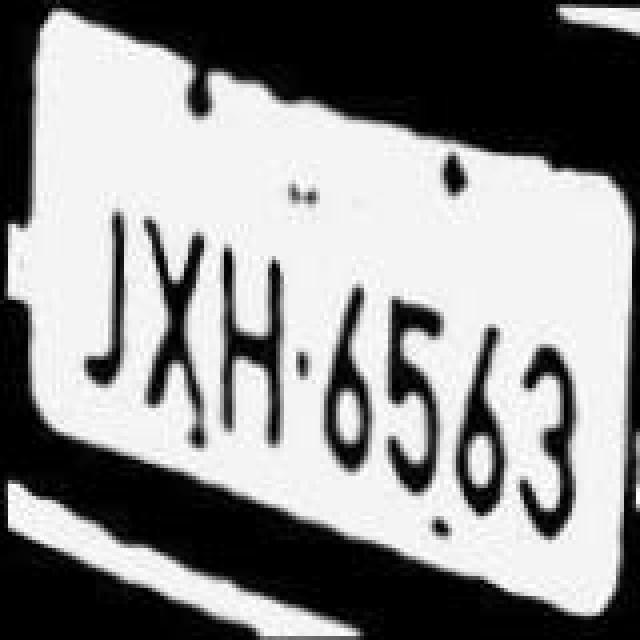3: (500, 300, 584, 564)
5: (372, 254, 448, 518)
6: (440, 272, 516, 520), (302, 256, 374, 516)
H: (204, 228, 288, 468)
J: (62, 160, 138, 424)
X: (130, 206, 214, 438)
